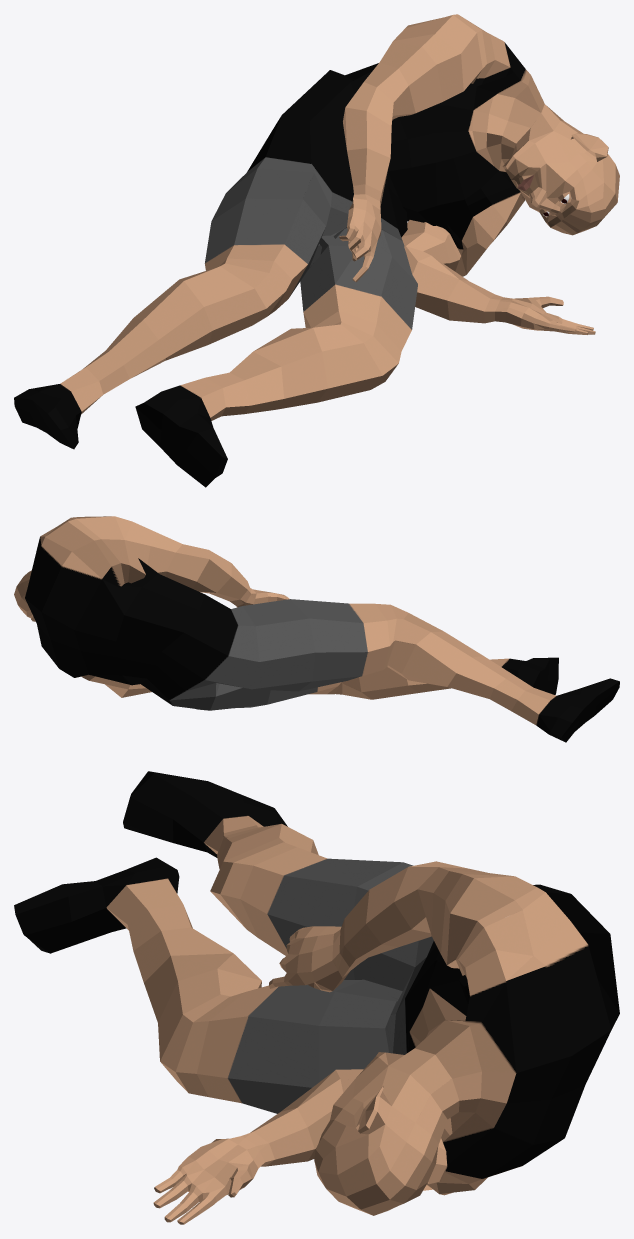
Rendered from PlayerDead(89).obj.
The picture shows the model from 3 angles, top to bottom: view 1: azimuth 30°, elevation 25°; view 2: azimuth 150°, elevation 25°; view 3: azimuth 270°, elevation 25°; orthographic projection. The views are drawn at different scales.
Parts seen in each view (by area): view 1: Plane002; view 2: Plane002; view 3: Plane002.
Part boxes in pixels (x1,y1,x2,y2): Plane002: (14, 14, 619, 487); Plane002: (14, 516, 619, 742); Plane002: (14, 771, 619, 1224).
Size of the model in its own units: 1574 by 555 by 923.
